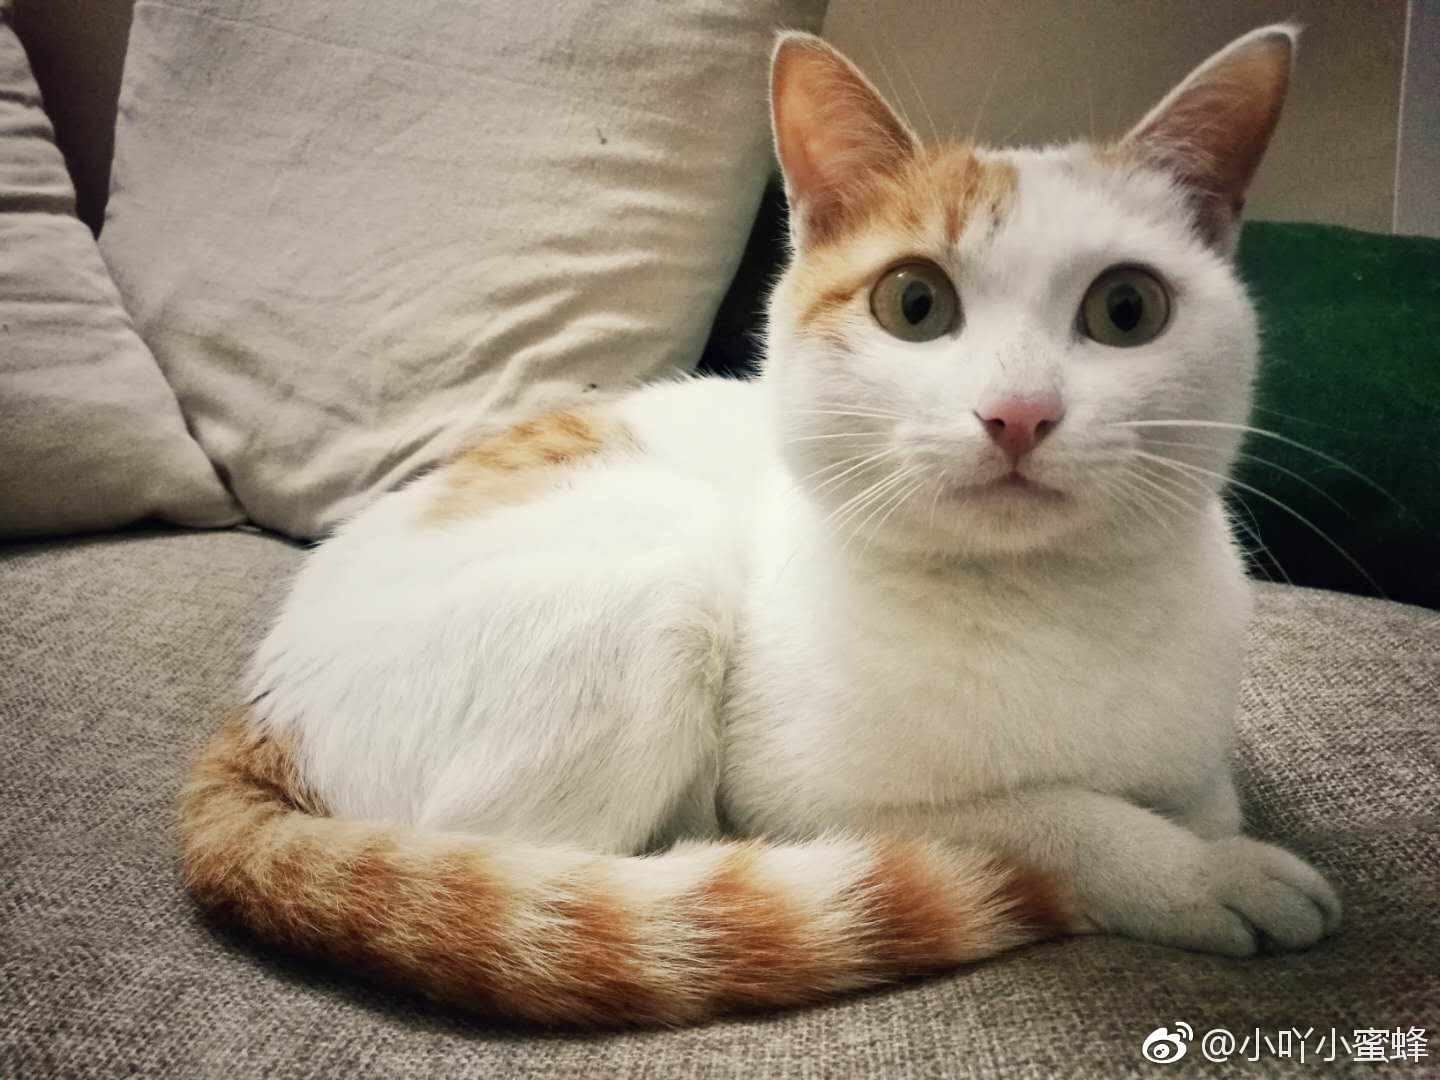猫: (190, 34, 1342, 1006)
